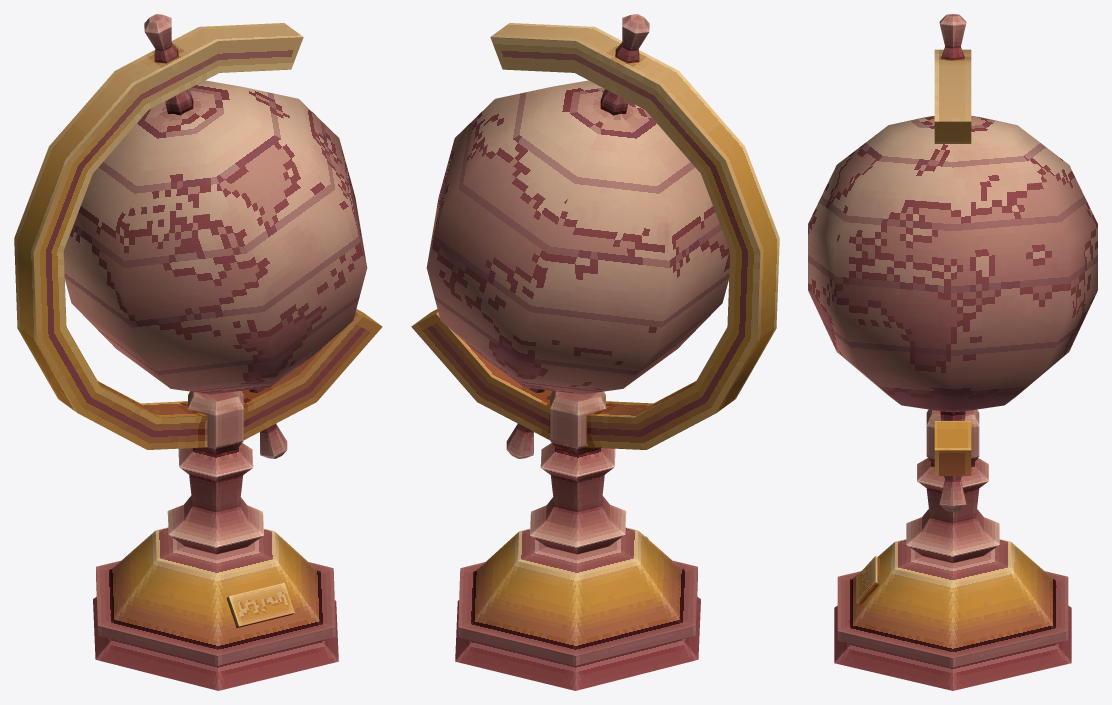
Rendered from globe_d86b51c7.glb.
3 views of the same model, side by side, from view 1: azimuth 30°, elevation 25°; view 2: azimuth 150°, elevation 25°; view 3: azimuth 270°, elevation 25° (orthographic). The views are drawn at different scales.
Parts seen in each view (by area): view 1: Globe; view 2: Globe; view 3: Globe.
Part boxes in pixels (x1=…): Globe: x1=14, y1=14, x2=382, y2=690; Globe: x1=411, y1=14, x2=779, y2=690; Globe: x1=808, y1=14, x2=1097, y2=690.
Size of the model in its own units: 0.0626 by 0.1076 by 0.0475.
1 material, 1 textured.
